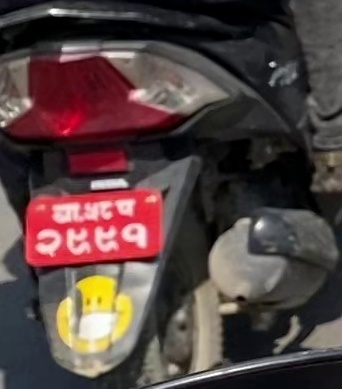license_plate: (23, 188, 165, 266)
